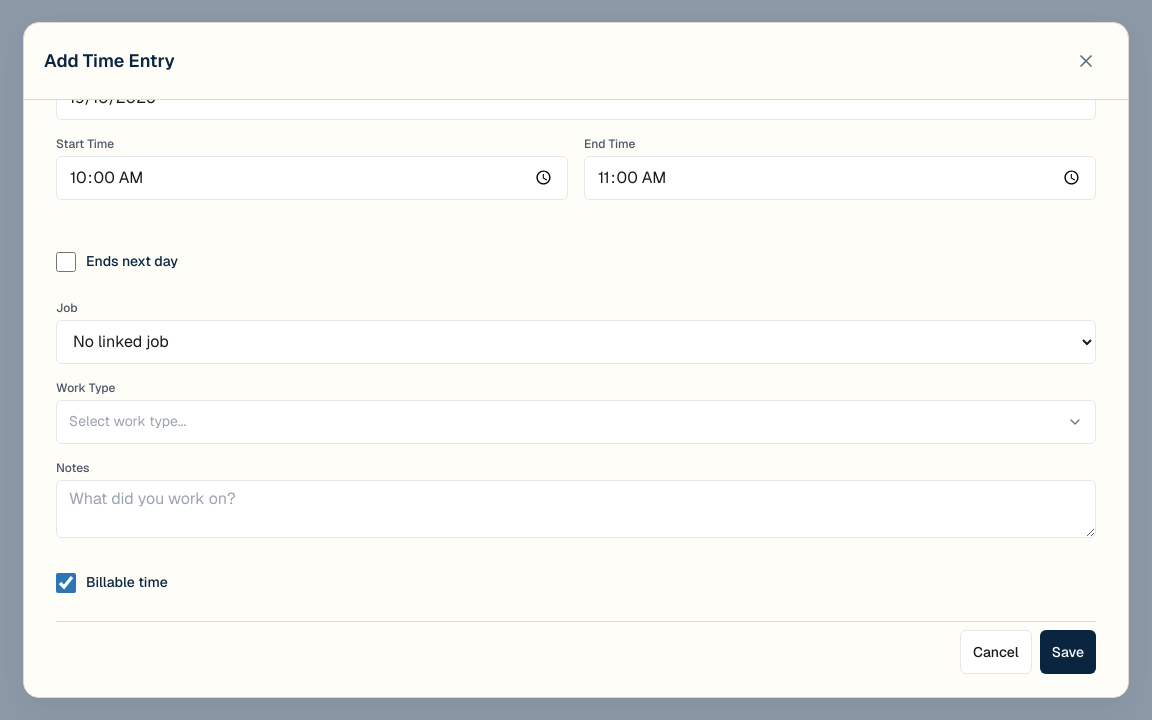
Scenario: TimeEntryForm save › blocks overlap from another job for the same person
The width and height of the screenshot is (1152, 720).
(page scrolled)
What coordinates should you click on to do the following:
click the submit button
I would click on:
 (1068, 652)
Its box is [1040,630,1096,674].
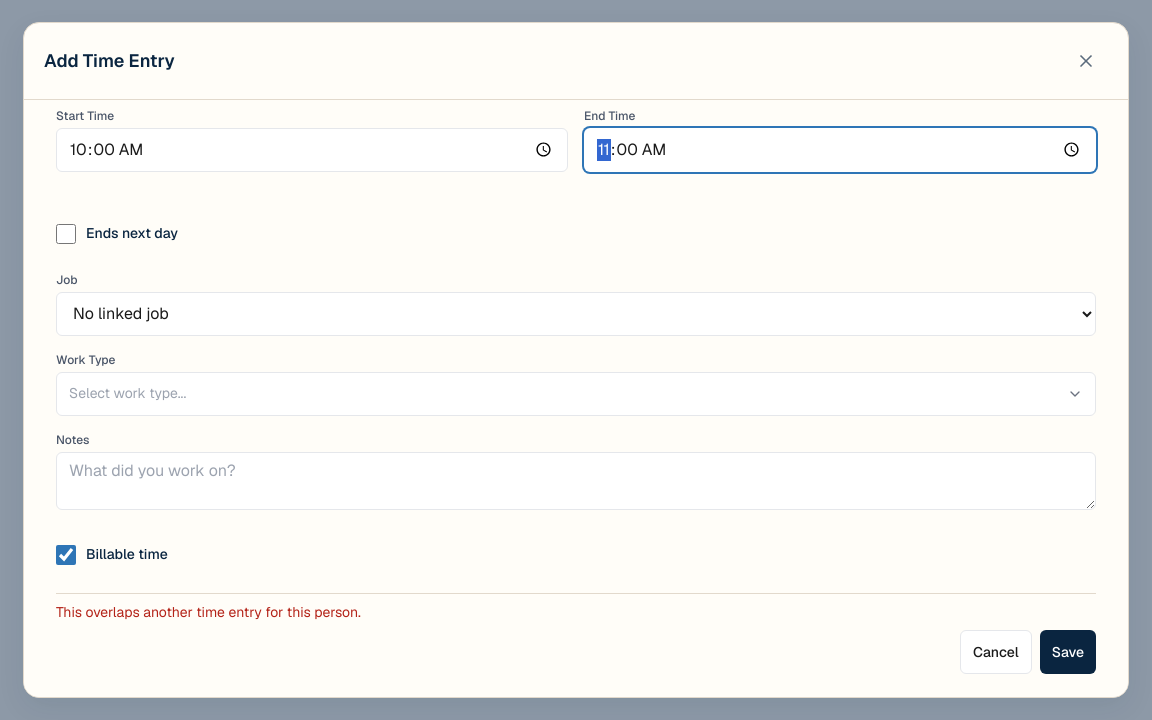
Now the message "This overlaps another time entry for this person." is shown, box [56,603,361,621]
